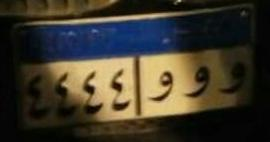4: (25, 72, 51, 123), (79, 69, 105, 118), (53, 68, 78, 117), (108, 69, 131, 116)
waw: (178, 64, 212, 102), (219, 58, 246, 101), (145, 69, 175, 105)
